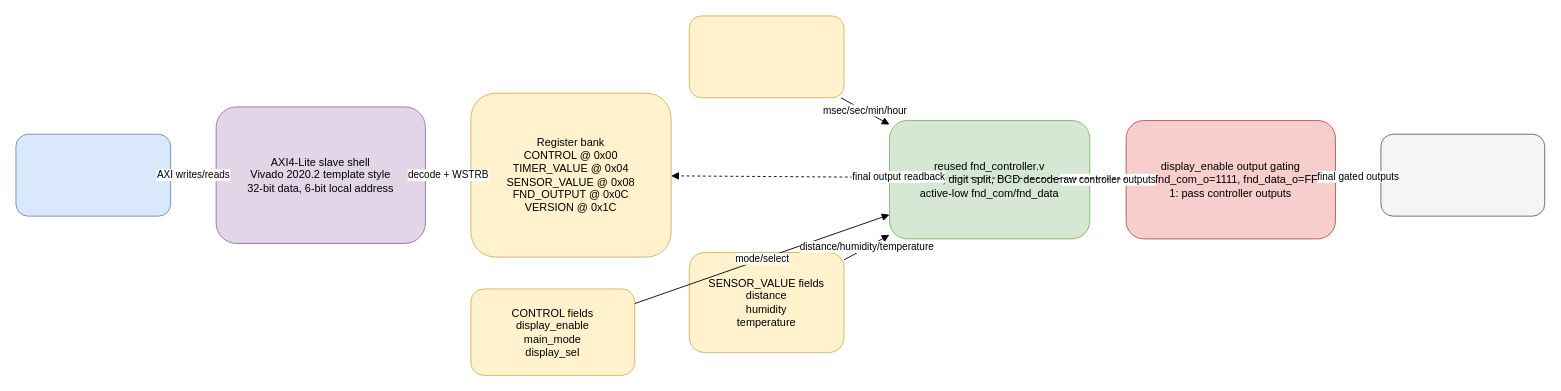
Some shapes in this 1561 by 391 pixel diagram are drawn without their labels. Here are the shapes that lost their labels. From the top down, the box of each, then its label:
(688, 15, 844, 98): TIMER_VALUE fields msec, sec min, hour
(15, 133, 171, 216): MicroBlaze AXI master software-updated values
(1380, 133, 1545, 216): Basys3 FND pins fnd_com_o[3:0] fnd_data_o[7:0]
